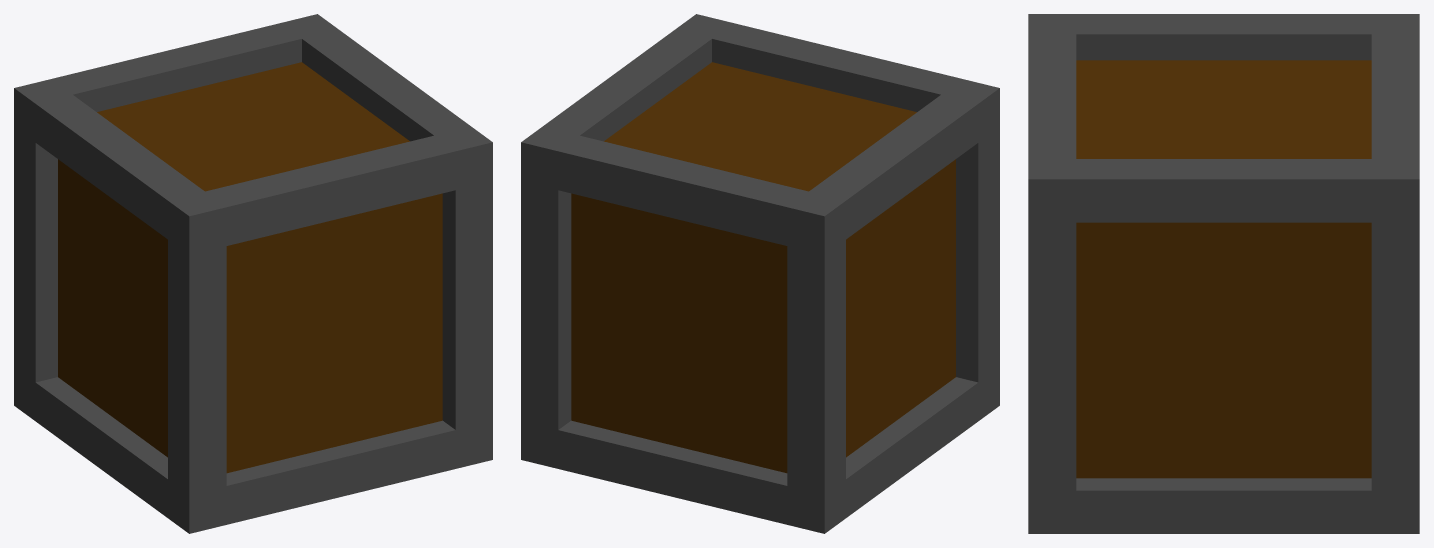
The picture shows the model from 3 angles, left to right: view 1: azimuth 30°, elevation 25°; view 2: azimuth 150°, elevation 25°; view 3: azimuth 270°, elevation 25°; orthographic projection. The views are drawn at different scales.
Visible parts, largest first — view 1: Cube; view 2: Cube; view 3: Cube.
Part boxes in pixels (<box>): Cube: <box>14,14,492,533</box>; Cube: <box>521,14,999,533</box>; Cube: <box>1028,14,1419,533</box>.
Size of the model in its own units: 200 by 200 by 200.
